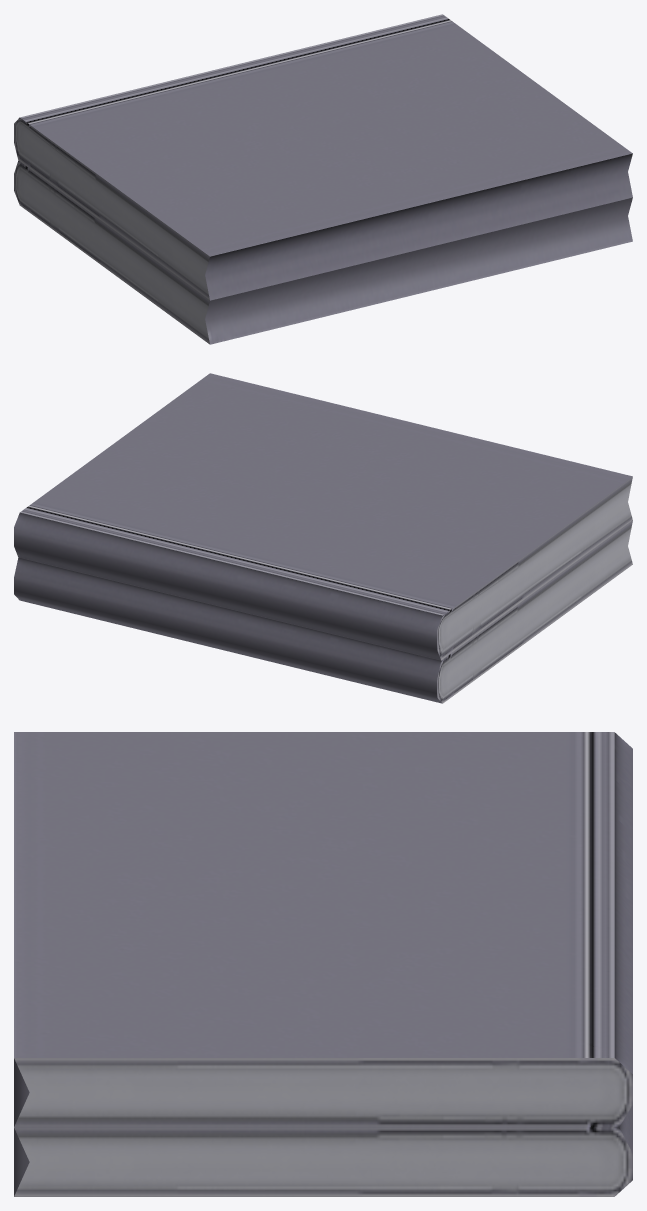
Rendered from BookA.FBX.
3 views of the same model, one above another, from view 1: azimuth 30°, elevation 25°; view 2: azimuth 150°, elevation 25°; view 3: azimuth 270°, elevation 25° (orthographic). The views are drawn at different scales.
Parts seen in each view (by area): view 1: Book; view 2: Book; view 3: Book.
Boxes of the visible parts, x1,y1,x2,y2 form: Book: (14,14,632,344); Book: (14,373,632,703); Book: (14,732,632,1196).
Bounding box in the file's own units: 22.82 × 18.33 × 4.54.
